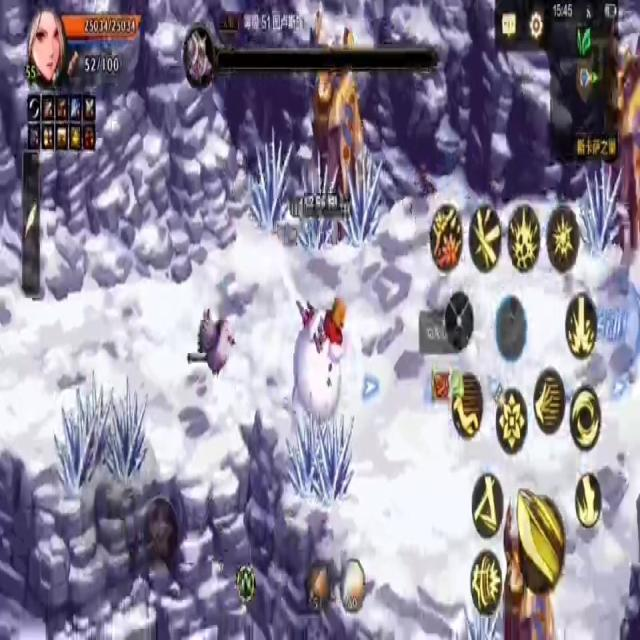player: (290, 273, 346, 436)
